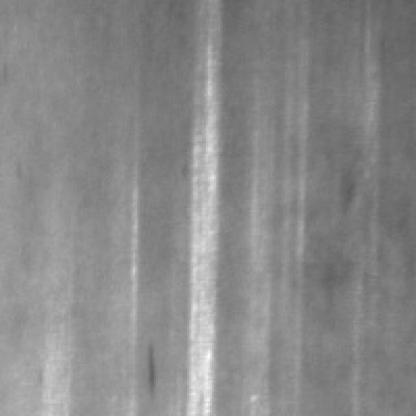scratches: (172, 37, 220, 412)
